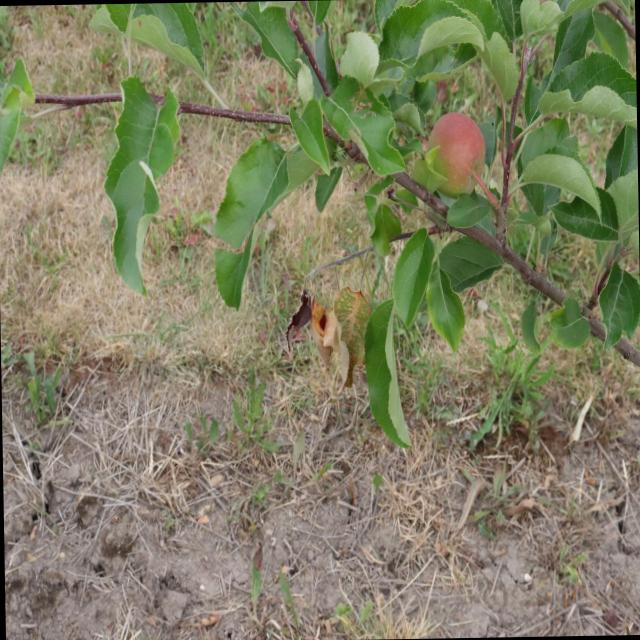-FireBlight-: (287, 286, 355, 388)
